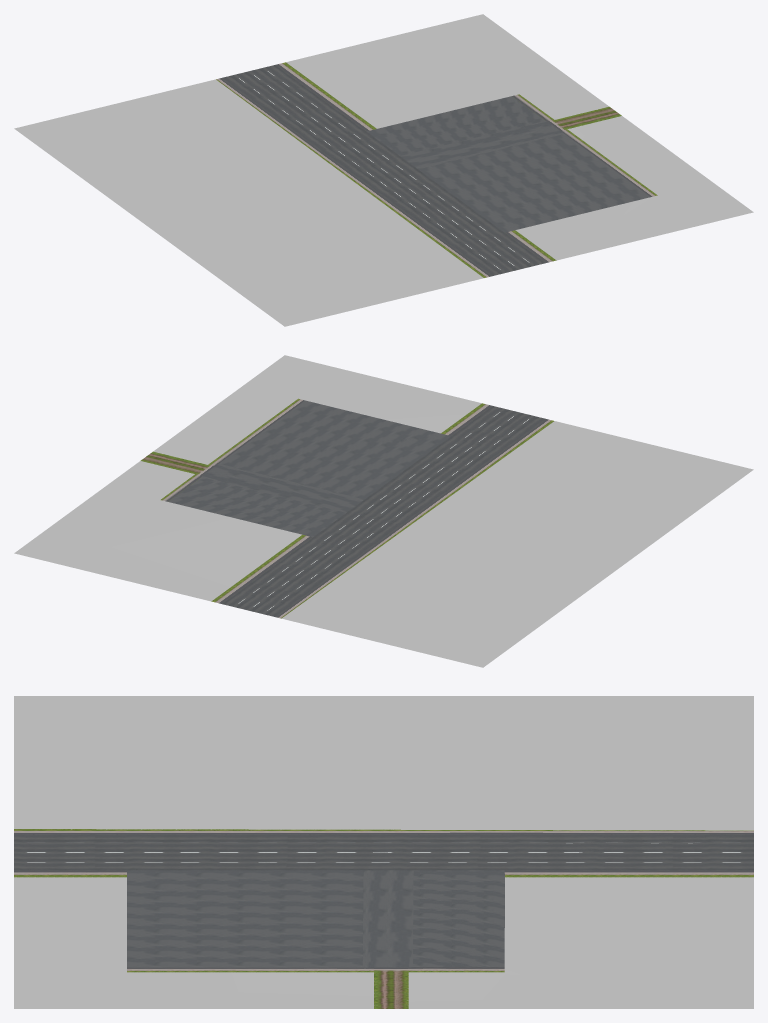
The model's file is road6.FBX.
3 views of the same model, one above another, from view 1: azimuth 30°, elevation 25°; view 2: azimuth 150°, elevation 25°; view 3: azimuth 270°, elevation 25° (orthographic). The views are drawn at different scales.
Parts seen in each view (by area): view 1: road; view 2: road; view 3: road.
Part boxes in pixels (x1,y1,x2,y2): road: (14, 14, 753, 326); road: (14, 355, 753, 667); road: (14, 696, 753, 1008).
Bounding box in the file's own units: 12000 × 2.47 × 12000.
